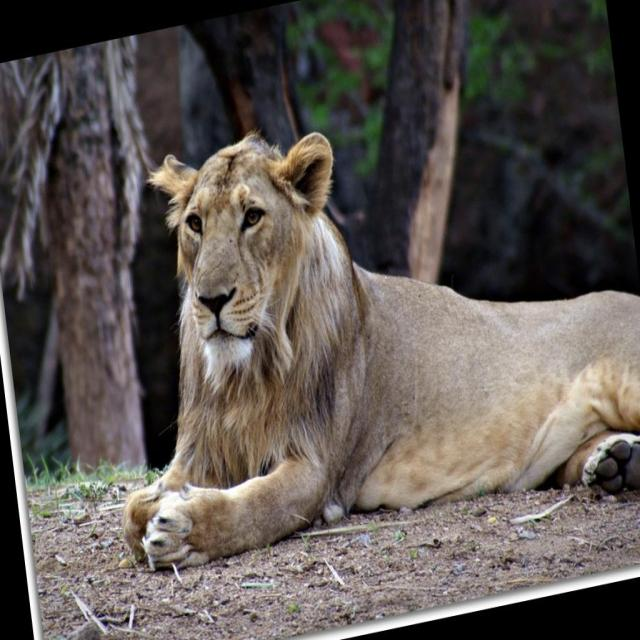Lion: (79, 52, 639, 594)
